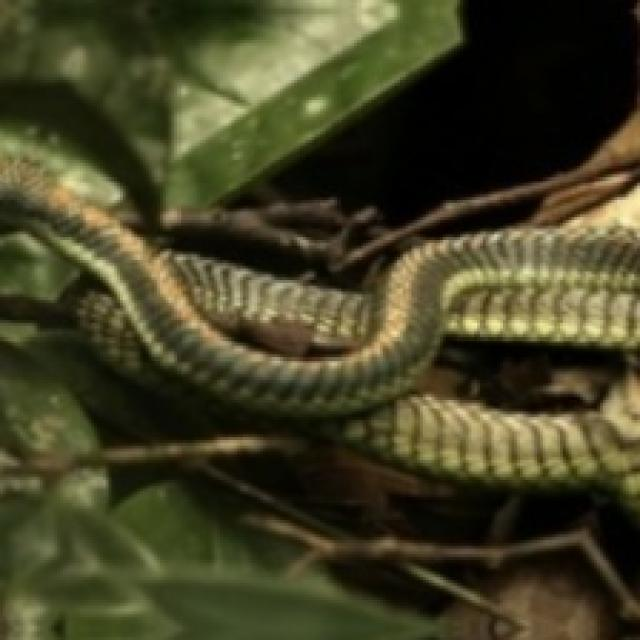paradise tree snake: (0, 129, 637, 569), (0, 157, 637, 506), (409, 337, 626, 414), (206, 289, 274, 329)
